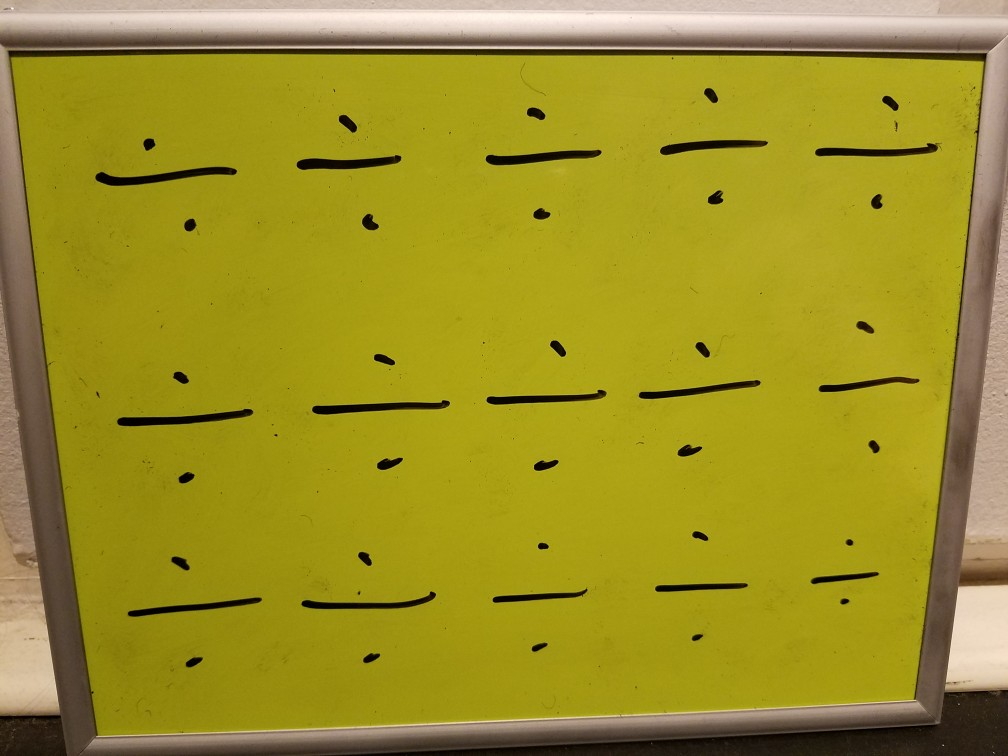div: (627, 304, 776, 487), (635, 60, 798, 223), (95, 342, 259, 497), (291, 329, 456, 483), (453, 526, 629, 666), (112, 534, 271, 687), (806, 68, 952, 233), (285, 93, 435, 252), (805, 295, 938, 469), (293, 536, 444, 680), (88, 109, 244, 247), (475, 324, 605, 488), (479, 93, 621, 242), (634, 521, 764, 665), (794, 527, 889, 616)
